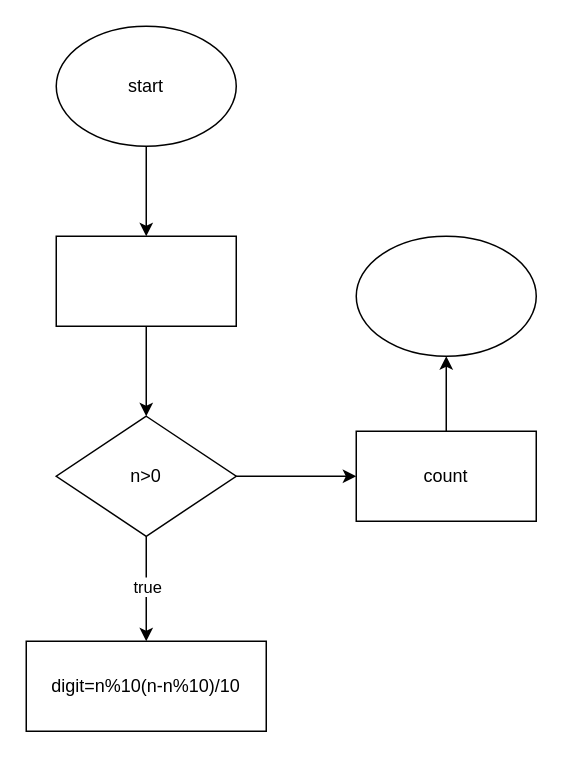
Image size: 563x758. Some labels were removed from this diagram. The centre of each missing label's shape, as x and y in pixels:
"end" goes at [445,295].
"n count" goes at [145,280].
